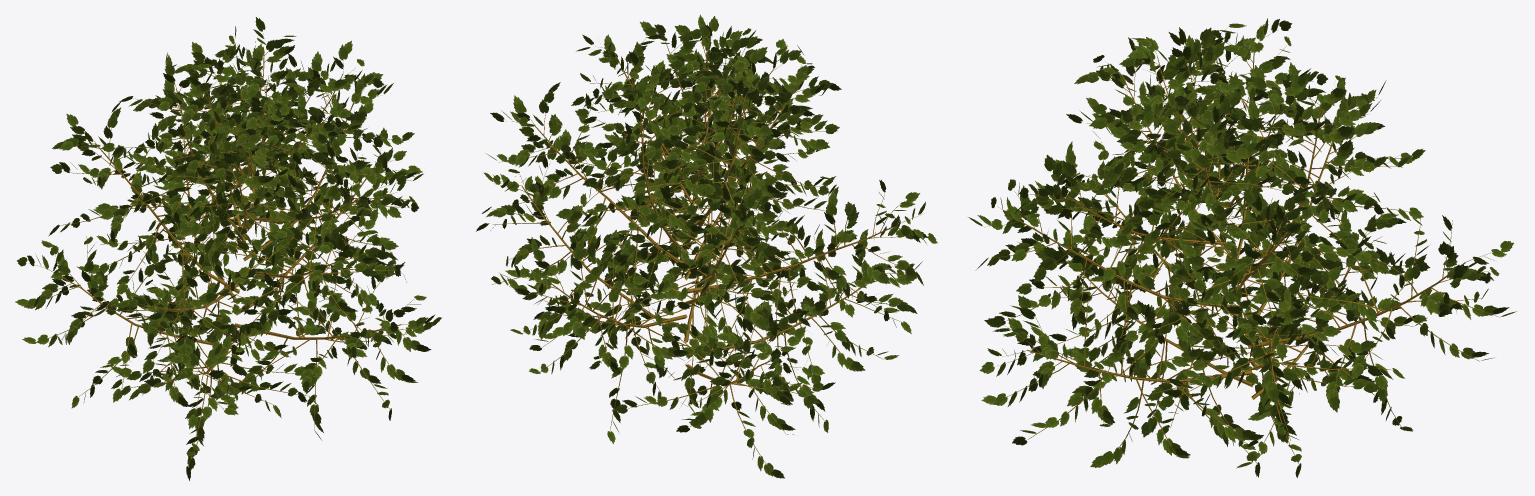
File: bush.fbx
The picture shows the model from 3 angles, left to right: view 1: azimuth 30°, elevation 25°; view 2: azimuth 150°, elevation 25°; view 3: azimuth 270°, elevation 25°; orthographic projection. The views are drawn at different scales.
Parts seen in each view (by area): view 1: Foliage001, Foliage002; view 2: Foliage001, Foliage002; view 3: Foliage001, Foliage002.
Part boxes in pixels (bbox=[...]): Foliage001: bbox=[15, 17, 441, 480]; Foliage002: bbox=[29, 33, 430, 465]; Foliage001: bbox=[476, 14, 937, 478]; Foliage002: bbox=[488, 36, 924, 470]; Foliage001: bbox=[968, 18, 1517, 477]; Foliage002: bbox=[984, 32, 1499, 463].
Size of the model in its own units: 144 by 145 by 159.
